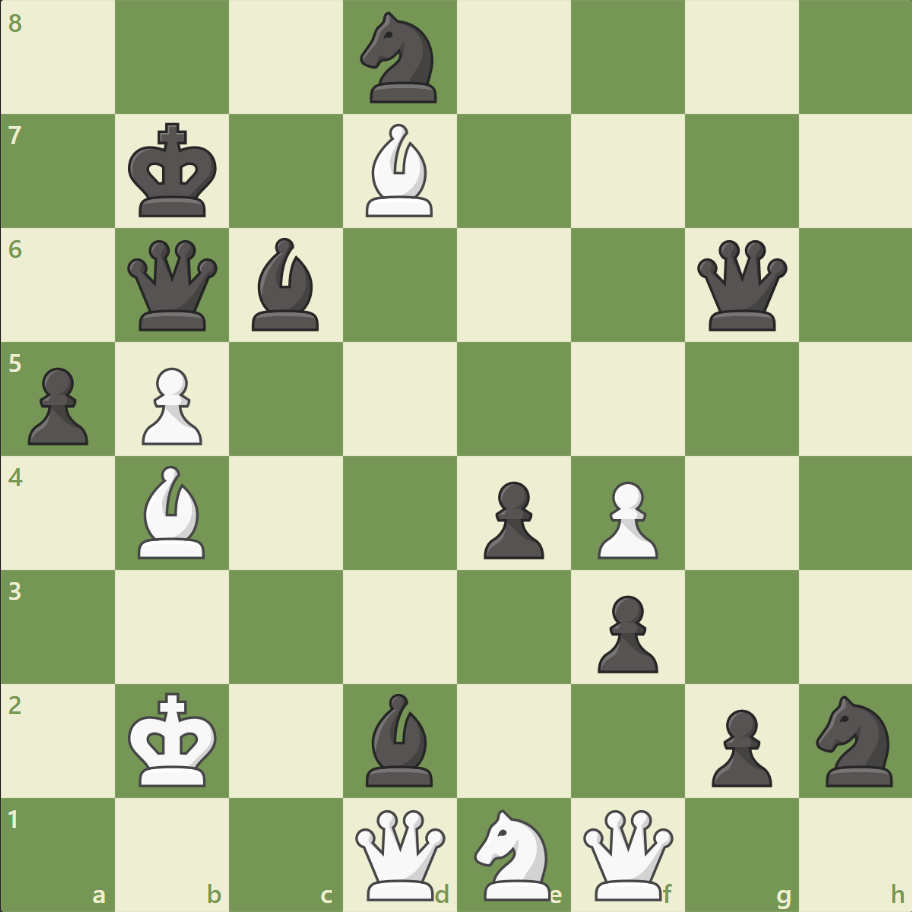B: (131, 460, 215, 563), (358, 120, 442, 222)
K: (124, 685, 224, 793)
N: (465, 802, 562, 904)
P: (133, 359, 208, 450), (588, 473, 662, 564)
Q: (351, 804, 450, 903), (578, 804, 677, 903)
b: (244, 233, 328, 336), (358, 687, 442, 790)
k: (124, 117, 224, 225)
n: (351, 7, 449, 110), (806, 688, 903, 791)
p: (20, 359, 95, 450), (474, 473, 549, 564), (701, 700, 776, 791), (588, 586, 662, 677)
q: (124, 236, 223, 335), (691, 236, 790, 335)
